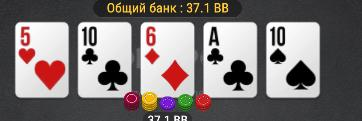10c: (78, 23, 131, 96)
10s: (268, 23, 318, 96)
5h: (17, 24, 68, 97)
6d: (142, 23, 193, 95)
Ac: (205, 24, 256, 97)
